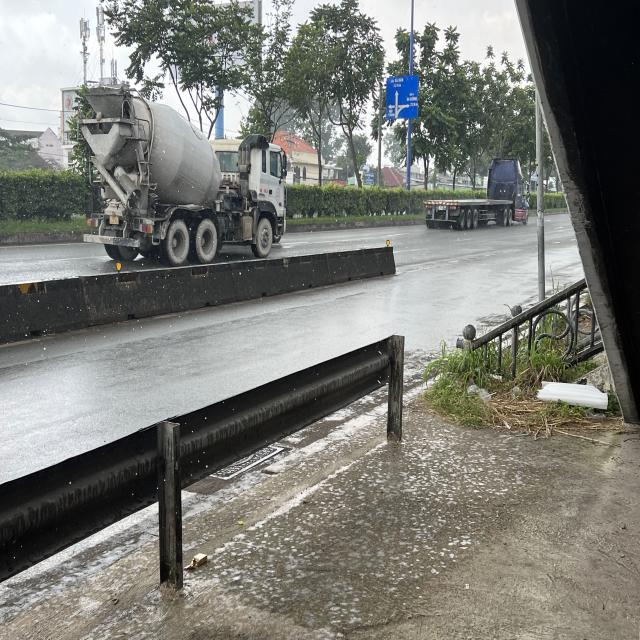container: (426, 158, 530, 227)
truck: (69, 88, 288, 259)
